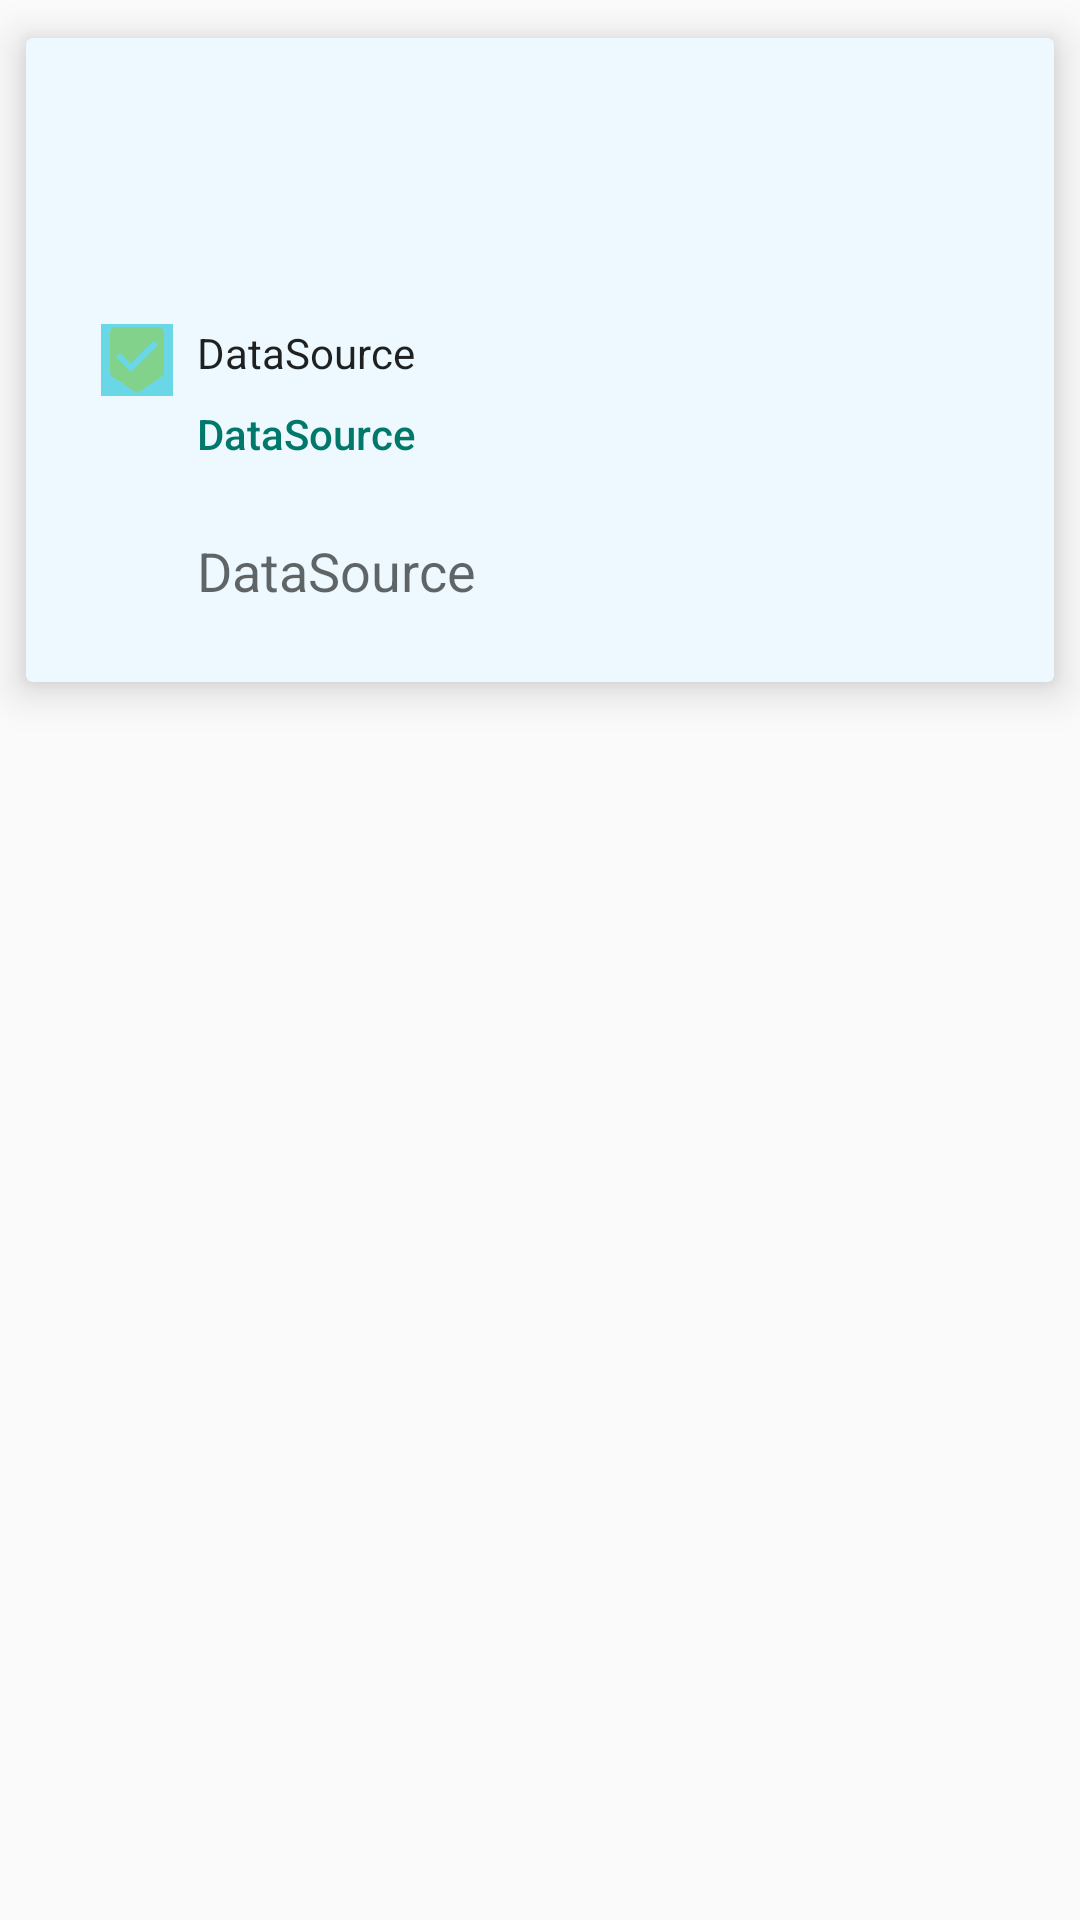

Named icons in this screenshot (1080w x 1920h) and their centers, (x=x, y=y):
beenhere: (x=137, y=360)
